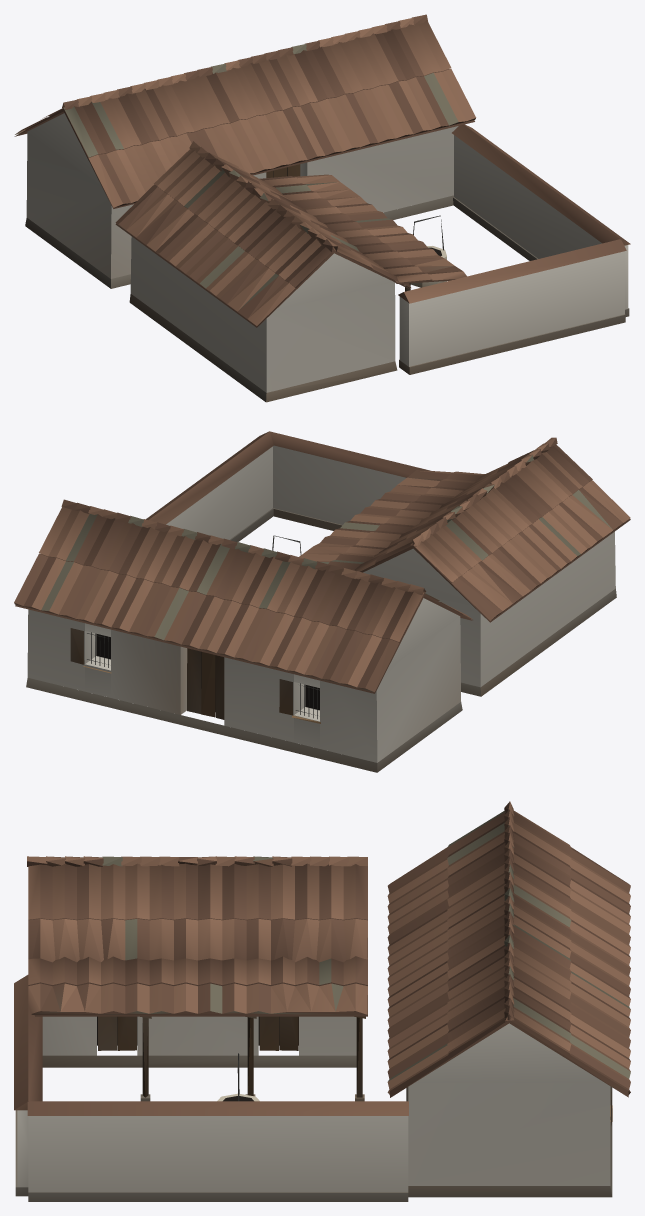
Rendered from casa_patio_b_lod.glb.
The picture shows the model from 3 angles, top to bottom: view 1: azimuth 30°, elevation 25°; view 2: azimuth 150°, elevation 25°; view 3: azimuth 270°, elevation 25°; orthographic projection. The views are drawn at different scales.
Visible parts, largest first — view 1: casa_patio_b; view 2: casa_patio_b; view 3: casa_patio_b.
Part boxes in pixels (x1=…): casa_patio_b: x1=14, y1=14, x2=630, y2=402; casa_patio_b: x1=14, y1=431, x2=630, y2=772; casa_patio_b: x1=14, y1=801, x2=630, y2=1201.
Bounding box in the file's own units: 12.87 × 5.1 × 15.27.
